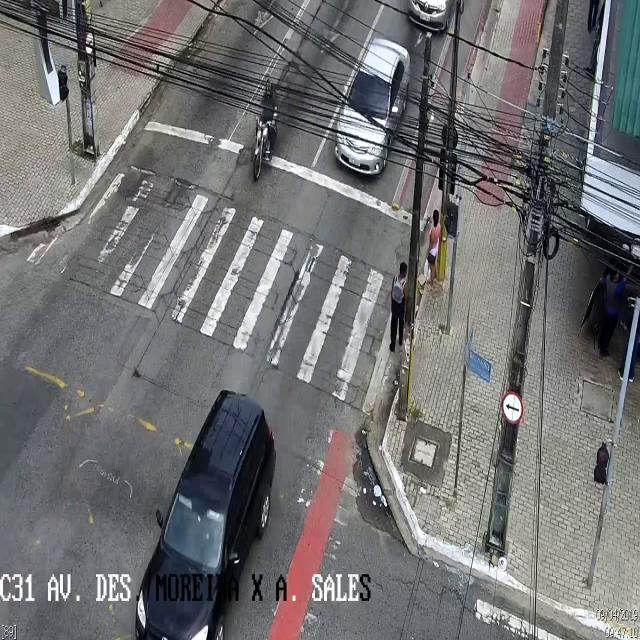Car: (138, 389, 277, 639), (335, 34, 409, 181), (403, 0, 462, 36)
Motorcycle: (252, 80, 278, 184)
